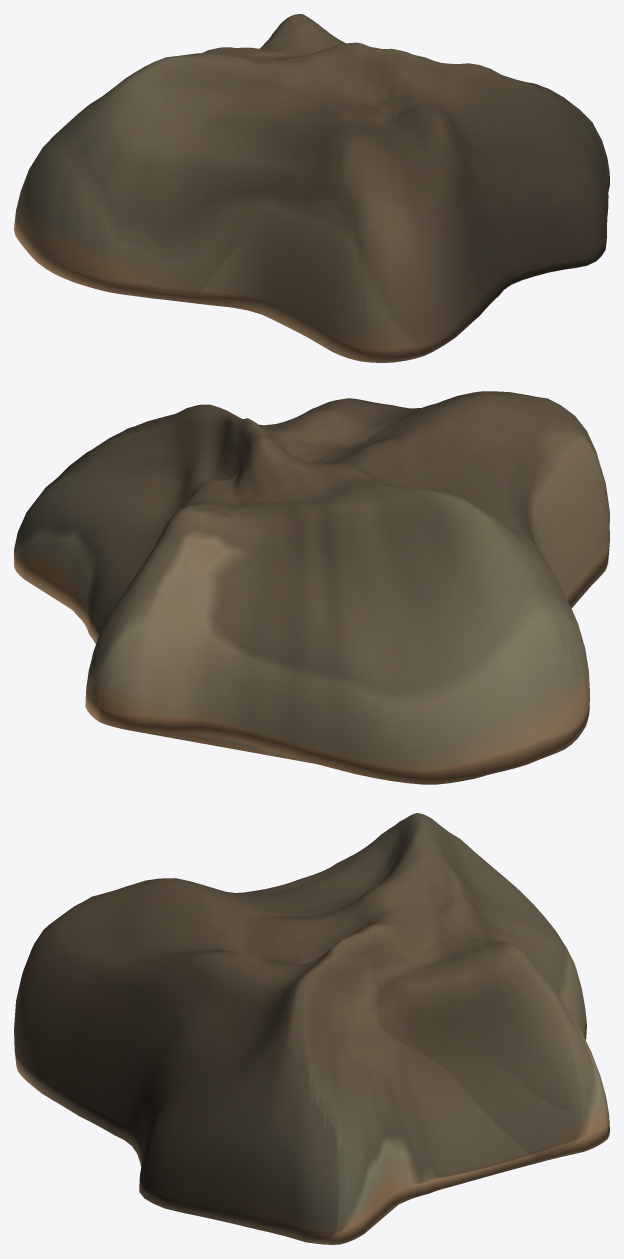
The model's file is Tas4.fbx.
3 renders of one model, top to bottom at view 1: azimuth 30°, elevation 25°; view 2: azimuth 150°, elevation 25°; view 3: azimuth 270°, elevation 25°, orthographic. The views are drawn at different scales.
Visible parts, largest first — view 1: Cube.037; view 2: Cube.037; view 3: Cube.037.
Part boxes in pixels (x1,y1,x2,y2): Cube.037: (14,14,609,362); Cube.037: (14,391,609,784); Cube.037: (14,813,609,1244).
Bounding box in the file's own units: 940 × 335 × 840.
1 material, 1 textured.
